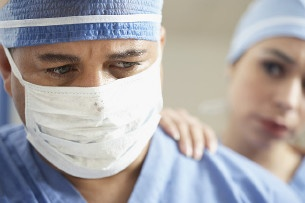Mask: (23, 41, 163, 181)
